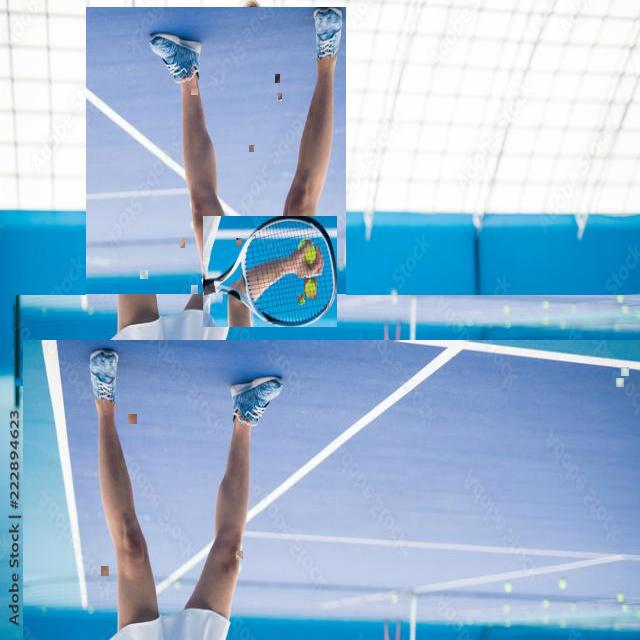ankle: (101, 566, 109, 576), (237, 552, 245, 561)
court: (23, 341, 640, 640)
elbow: (236, 239, 242, 246), (142, 166, 148, 171)
eye: (275, 75, 280, 83)
hand: (181, 240, 187, 248), (298, 275, 306, 280)
hip: (140, 271, 148, 279), (191, 286, 198, 294)
knee: (128, 414, 137, 424), (225, 408, 232, 416)
net: (15, 296, 640, 388)
nose: (277, 94, 282, 101)
player: (86, 8, 346, 632)
shoulder: (191, 90, 198, 97), (250, 146, 256, 152)
tennis ball: (204, 217, 337, 327), (305, 280, 317, 299), (557, 391, 567, 403), (504, 387, 512, 398), (300, 296, 307, 305), (616, 379, 624, 386), (621, 368, 629, 375)
